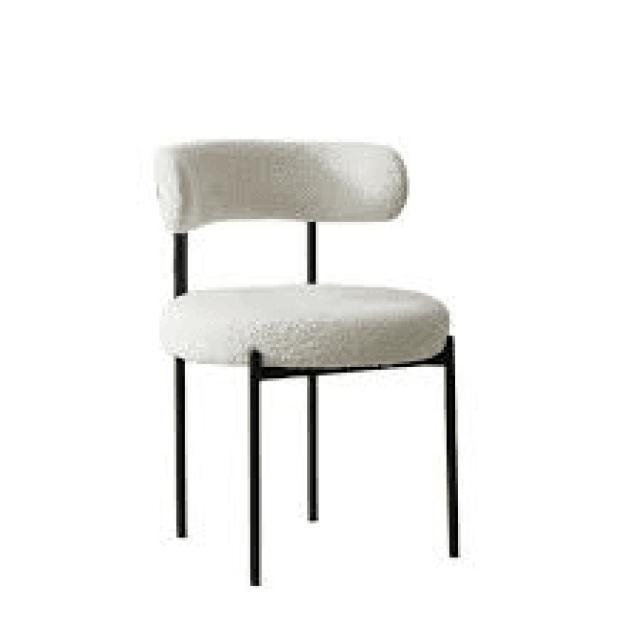chair: (149, 132, 465, 590), (152, 147, 412, 337)
